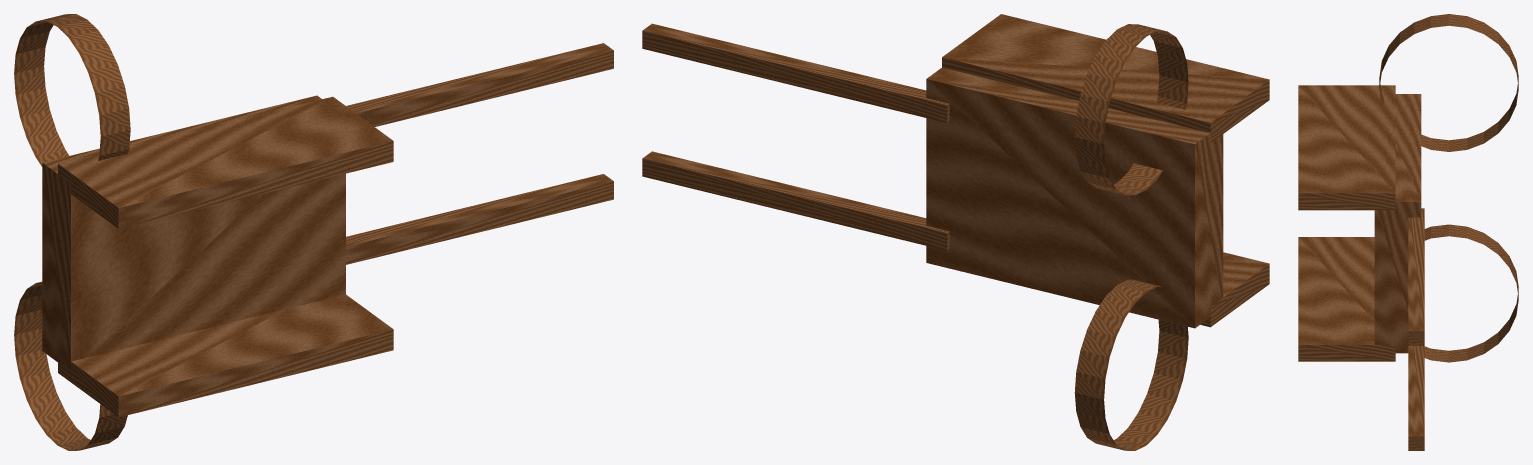
Rendered from SM_ShCart.obj.
The picture shows the model from 3 angles, left to right: view 1: azimuth 30°, elevation 25°; view 2: azimuth 150°, elevation 25°; view 3: azimuth 270°, elevation 25°; orthographic projection. The views are drawn at different scales.
Parts seen in each view (by area): view 1: SM_ShCart; view 2: SM_ShCart; view 3: SM_ShCart.
Part boxes in pixels (x1=…): SM_ShCart: x1=14, y1=14, x2=613, y2=450; SM_ShCart: x1=642, y1=14, x2=1269, y2=450; SM_ShCart: x1=1298, y1=14, x2=1518, y2=450.
Size of the model in its own units: 226 by 160 by 95.
Materials: 1 (1 with a texture image).
